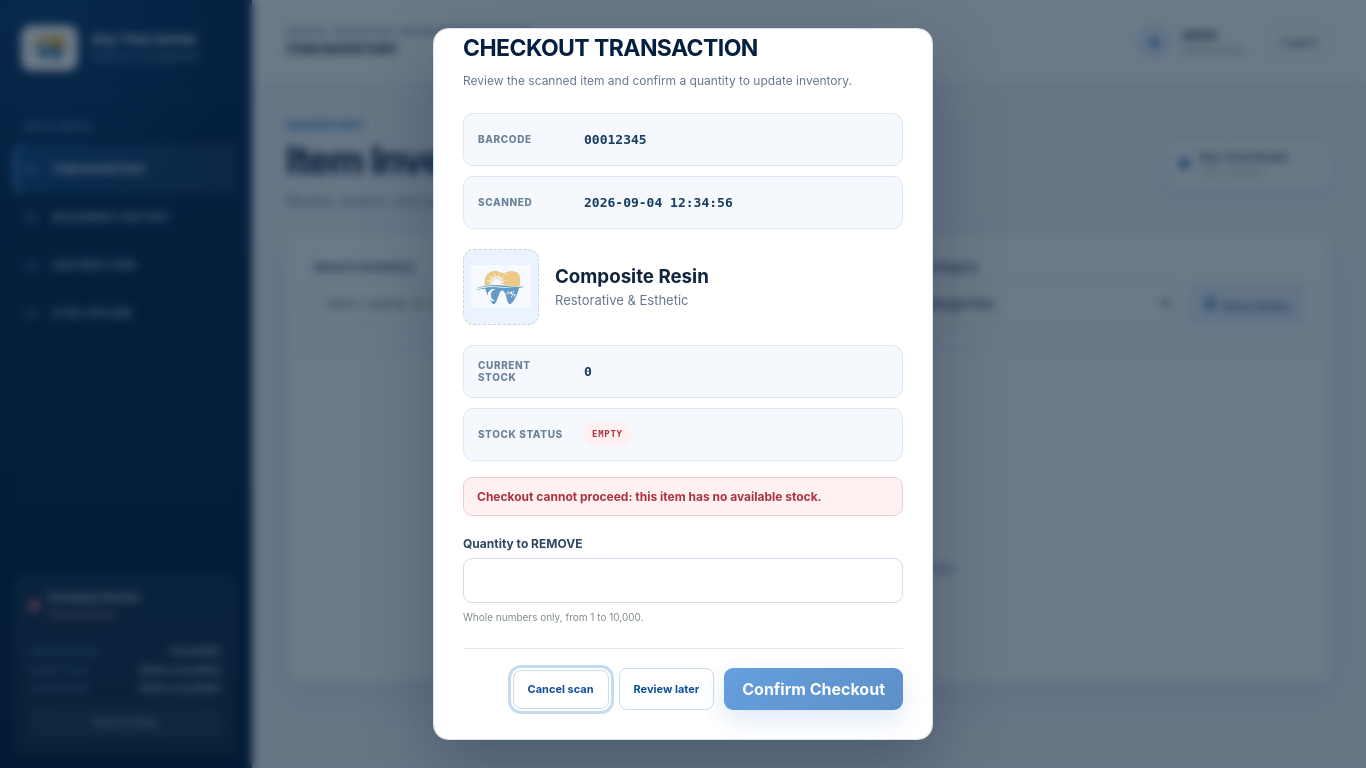
Test case: Phase 5 Step 2 hardware inventory transaction › cancels a zero-stock checkout explicitly without changing inventory or history
(page scrolled)
Expected: the field labelled "Quantity to REMOVE" is disabled, x1=463 y1=558 x2=903 y2=603
Expected: the button "Confirm Checkout" is disabled, x1=724 y1=668 x2=903 y2=710
Click the button "Cancel scan" at (561, 689), box x1=513 y1=670 x2=609 y2=709
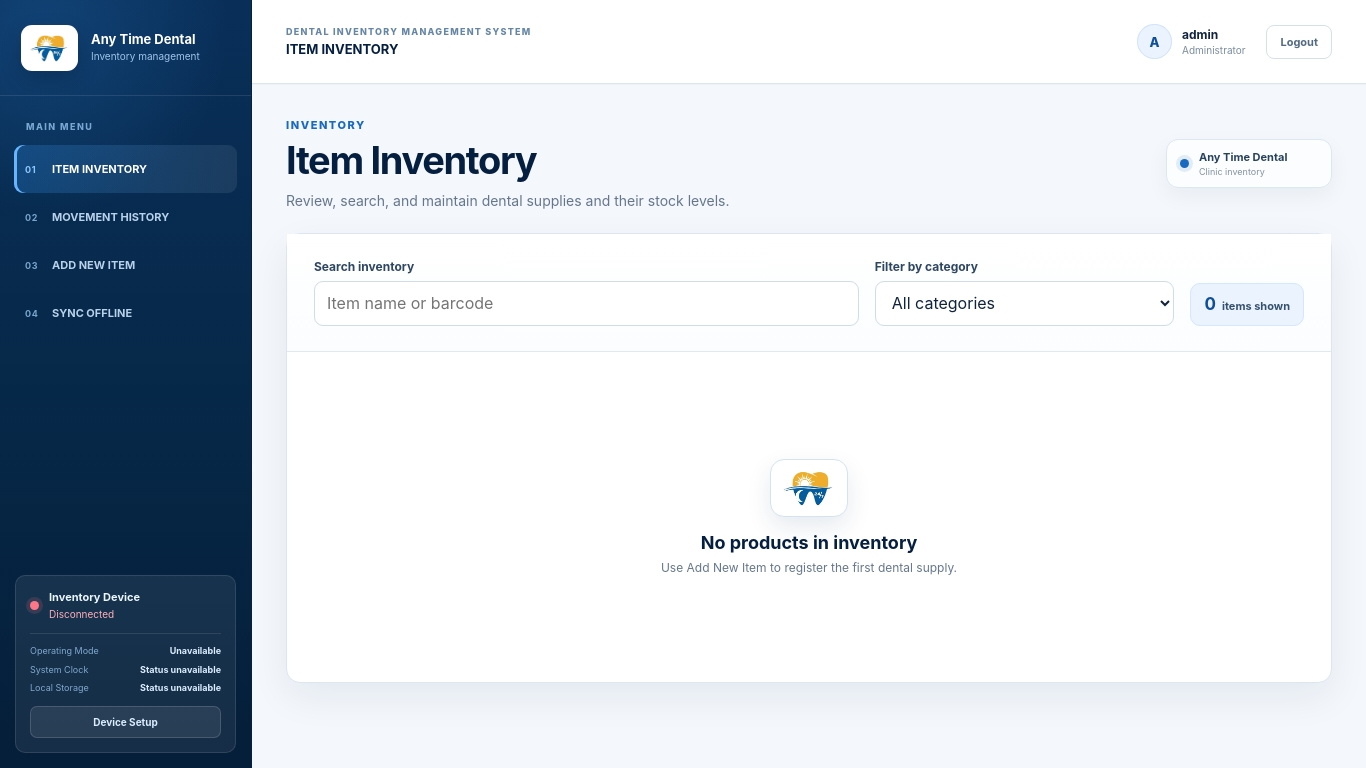
Result: the dialog is gone
